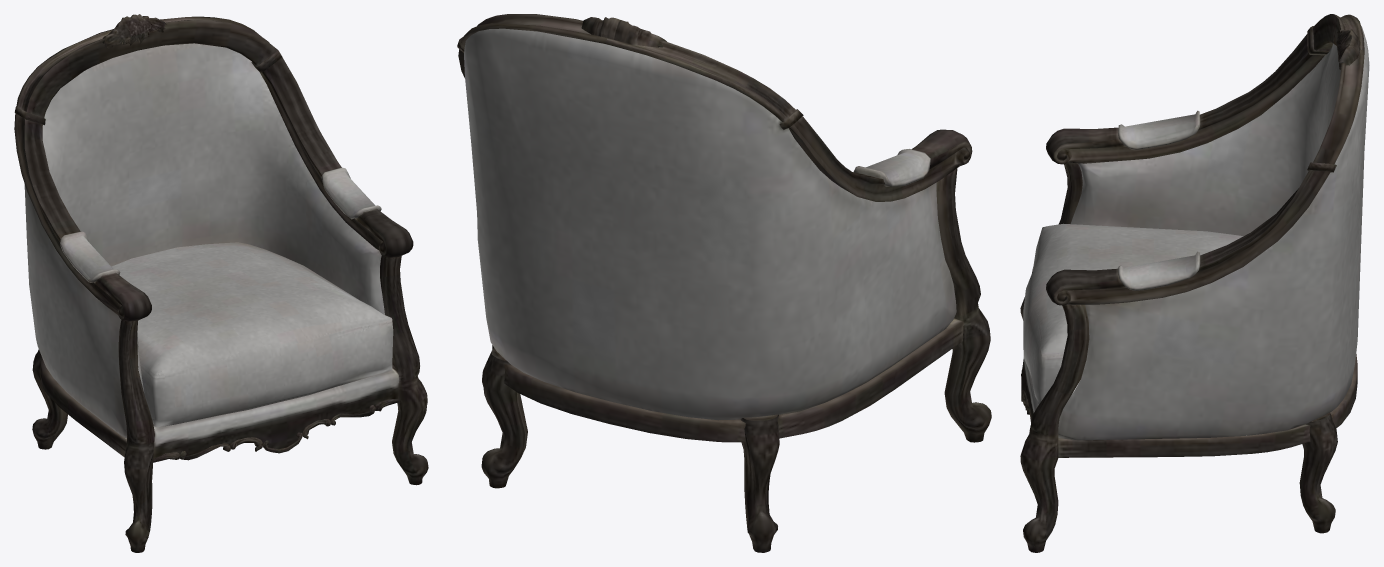
Rendered from ArmChair_01.glb.
3 views of the same model, side by side, from view 1: azimuth 30°, elevation 25°; view 2: azimuth 150°, elevation 25°; view 3: azimuth 270°, elevation 25° (orthographic). The views are drawn at different scales.
Parts seen in each view (by area): view 1: ArmChair_01; view 2: ArmChair_01; view 3: ArmChair_01.
Boxes of the visible parts, left/top/right/bottom form: ArmChair_01: left=14, top=14, right=428, bottom=552; ArmChair_01: left=457, top=14, right=991, bottom=552; ArmChair_01: left=1020, top=14, right=1369, bottom=552.
Bounding box in the file's own units: 0.8482 × 1.06 × 0.7658.
1 material, 1 textured.
